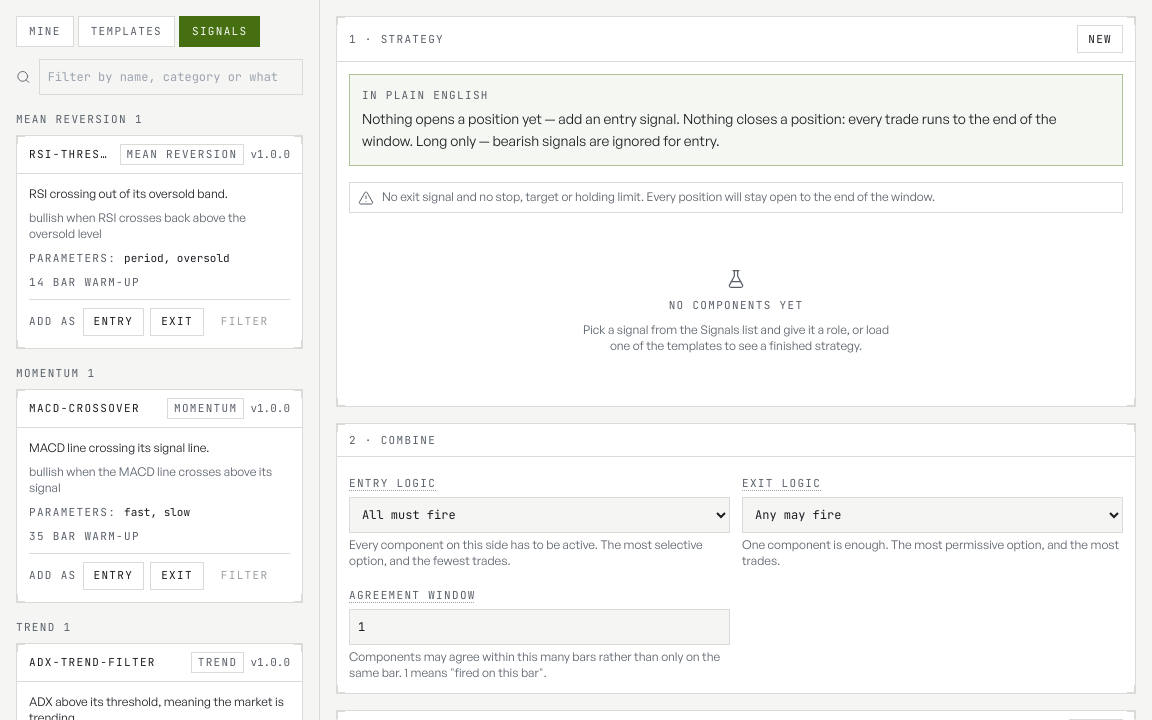
StrategyBuilder › loads a template into the builder as a working, unsaved strategy
Click the tab "Templates" at coordinates (126, 31), box [78,16,175,46]
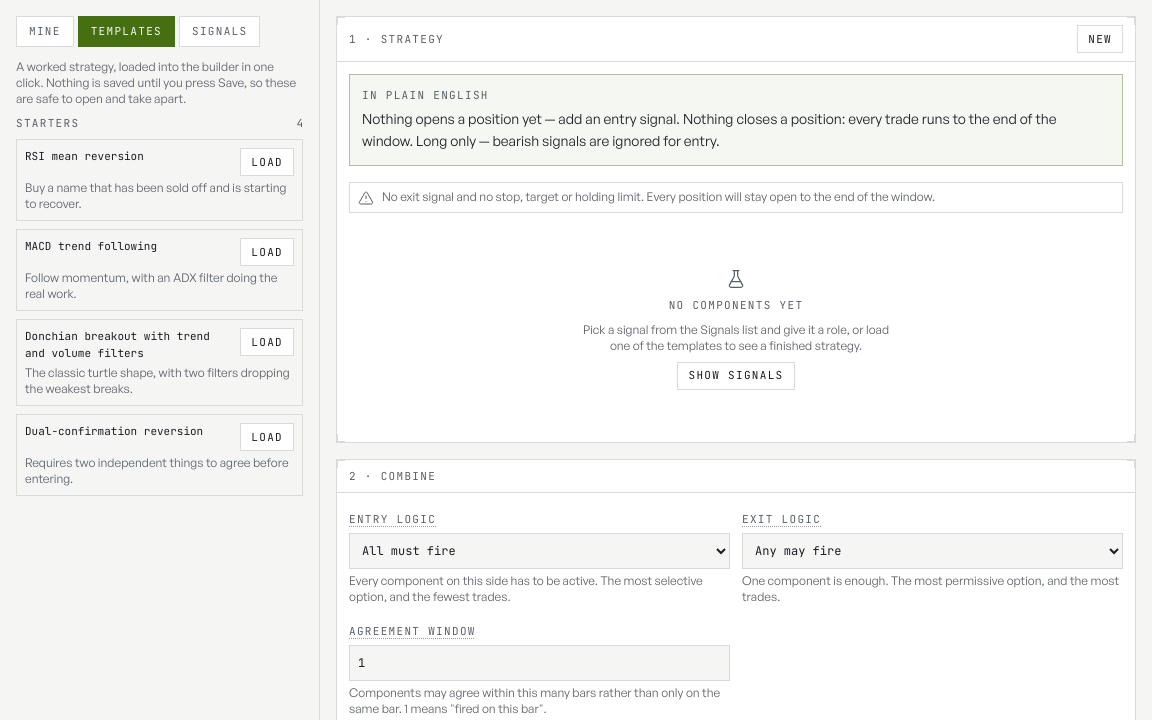
Result: the list with test id "template-list" is shown at [16,139,303,496]
Click the button with aria-label "load the rsi mean reversion template" at coordinates (267, 162), box [240,148,294,176]
(page scrolled)
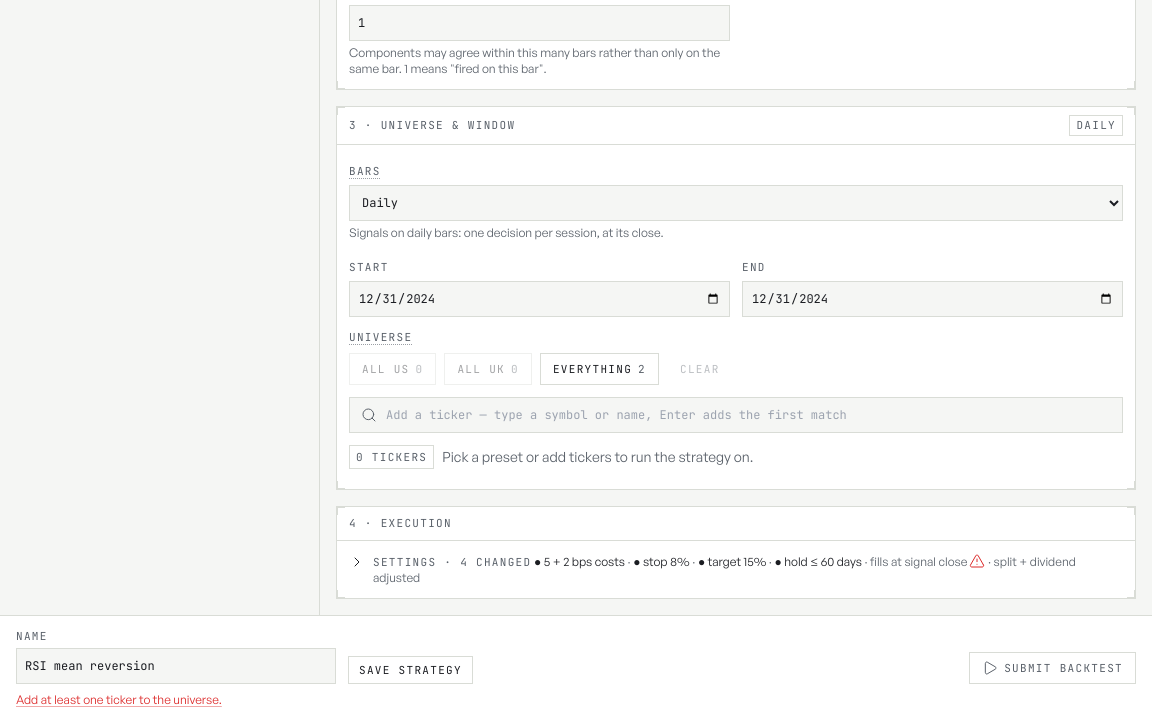
Expected: the button "Save strategy" is shown, [348,656,473,684]
Result: the field showing "RSI mean reversion" is shown at [16,648,336,684]
